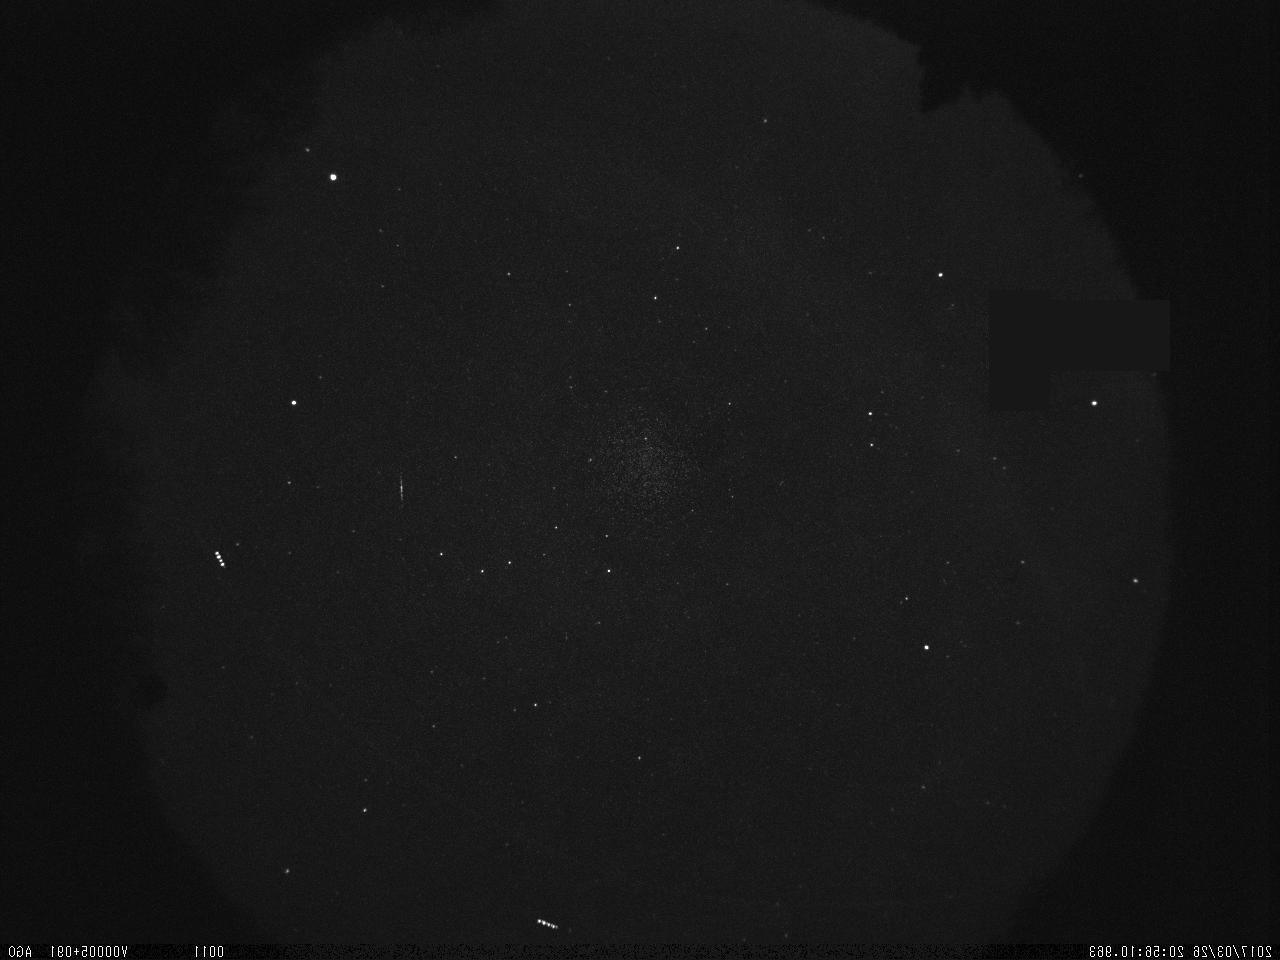meteor: (394, 466, 408, 514)
satelite: (533, 913, 564, 935), (209, 544, 227, 575)
